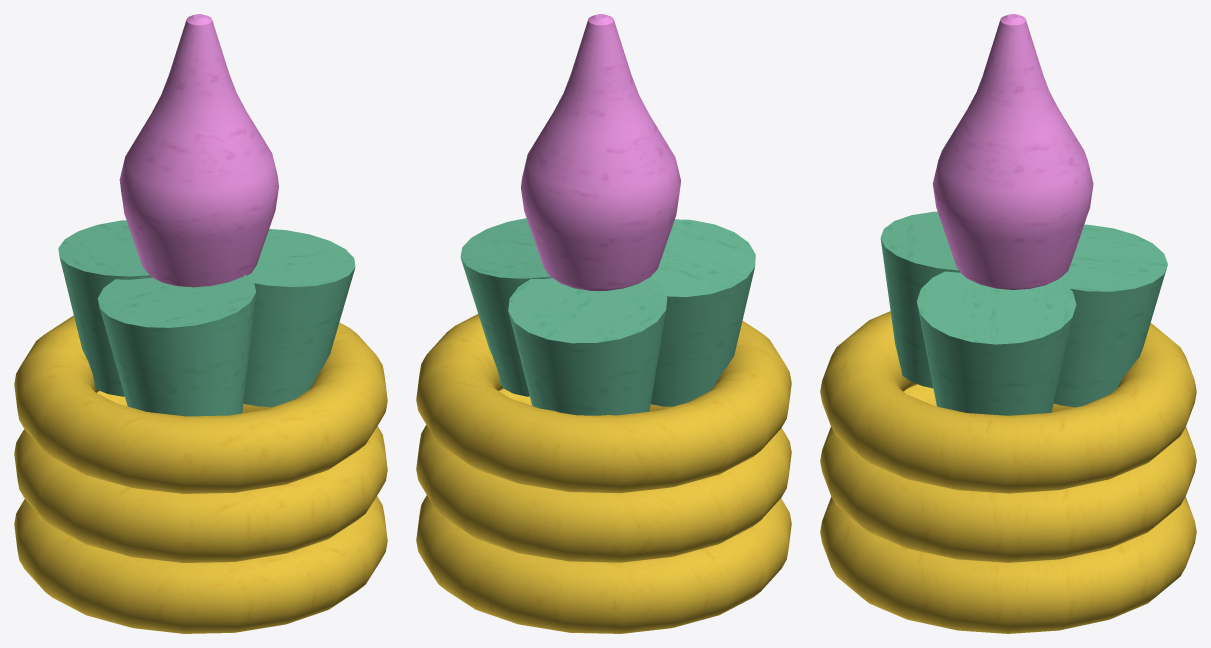
Rendered from plant2.fbx.
The picture shows the model from 3 angles, left to right: view 1: azimuth 30°, elevation 25°; view 2: azimuth 150°, elevation 25°; view 3: azimuth 270°, elevation 25°; orthographic projection.
Parts seen in each view (by area): view 1: plant; view 2: plant; view 3: plant.
Boxes of the visible parts, x1,y1,x2,y2 form: plant: (14, 14, 387, 633); plant: (416, 14, 791, 633); plant: (820, 14, 1196, 633).
Size of the model in its own units: 1.36 by 2.2 by 1.36.
